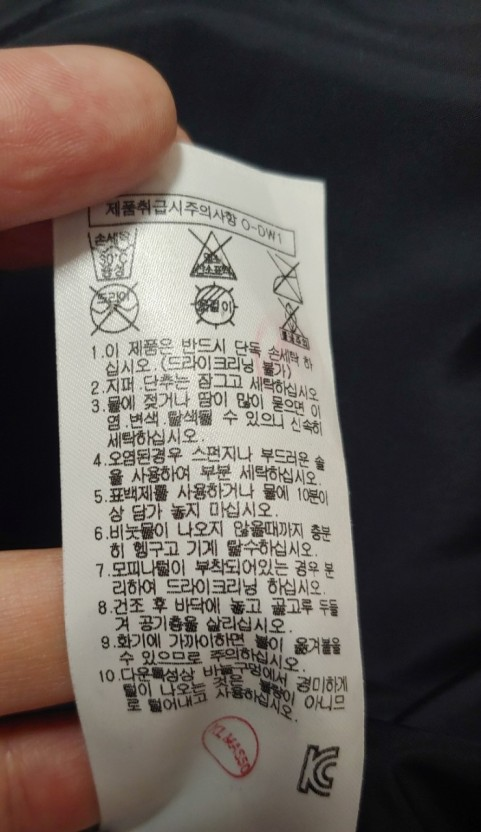KR_hand_wash_30_neutral: (83, 227, 141, 282)
KR_hang_dry_in_shade: (190, 282, 240, 330)
KR_no_bleach: (185, 232, 238, 283)
KR_no_dry_clean: (87, 283, 140, 336)
KR_no_iron: (266, 247, 309, 311)
